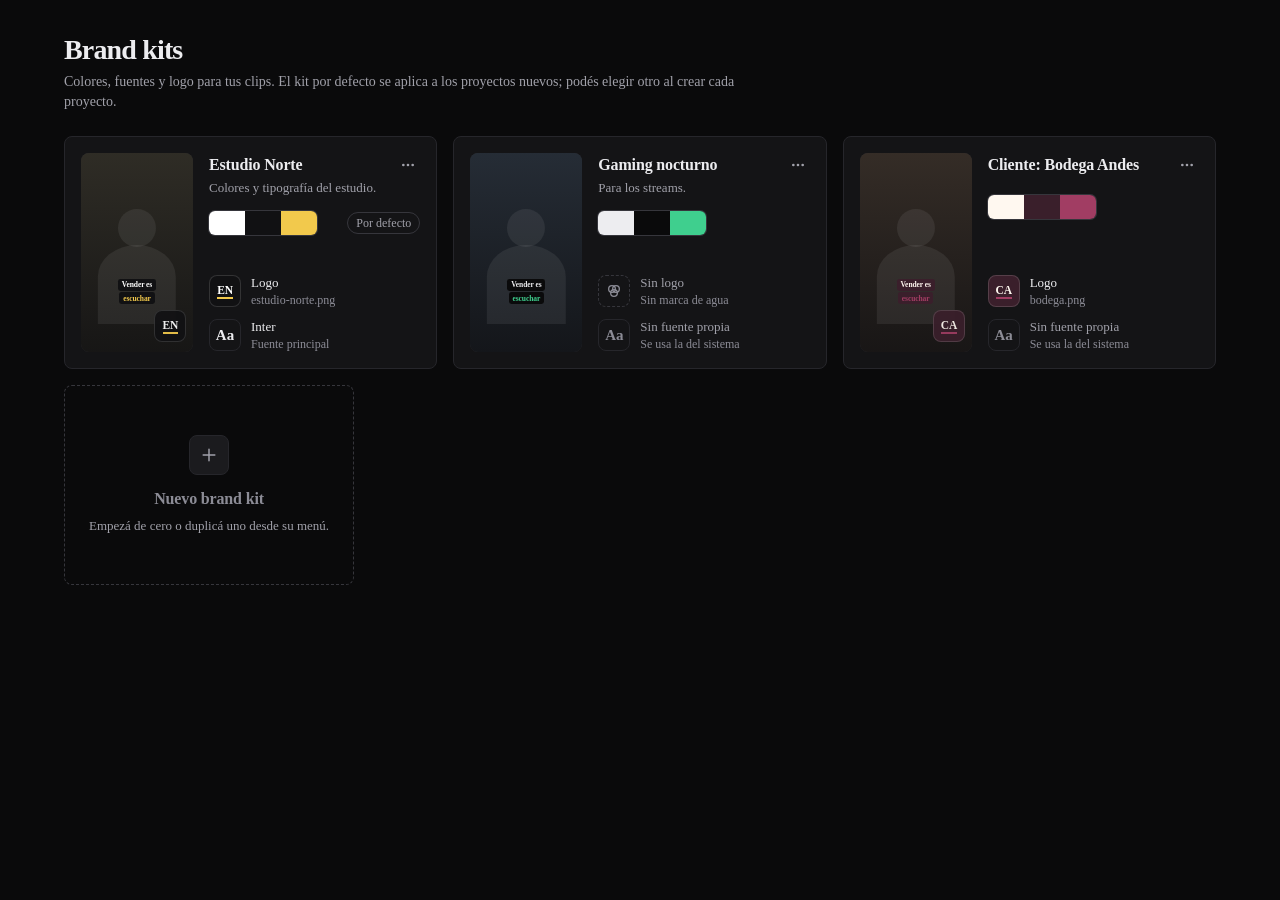
Scenario: F1 · Brand kits › backend real: si no se pudieron copiar los archivos (502), avisa y no agrega nada
Check: the heading "Brand kits" is shown, box [64,34,182,65]
Click the button named "Acciones de Gaming nocturno" at (798, 165), box [782,149,814,181]
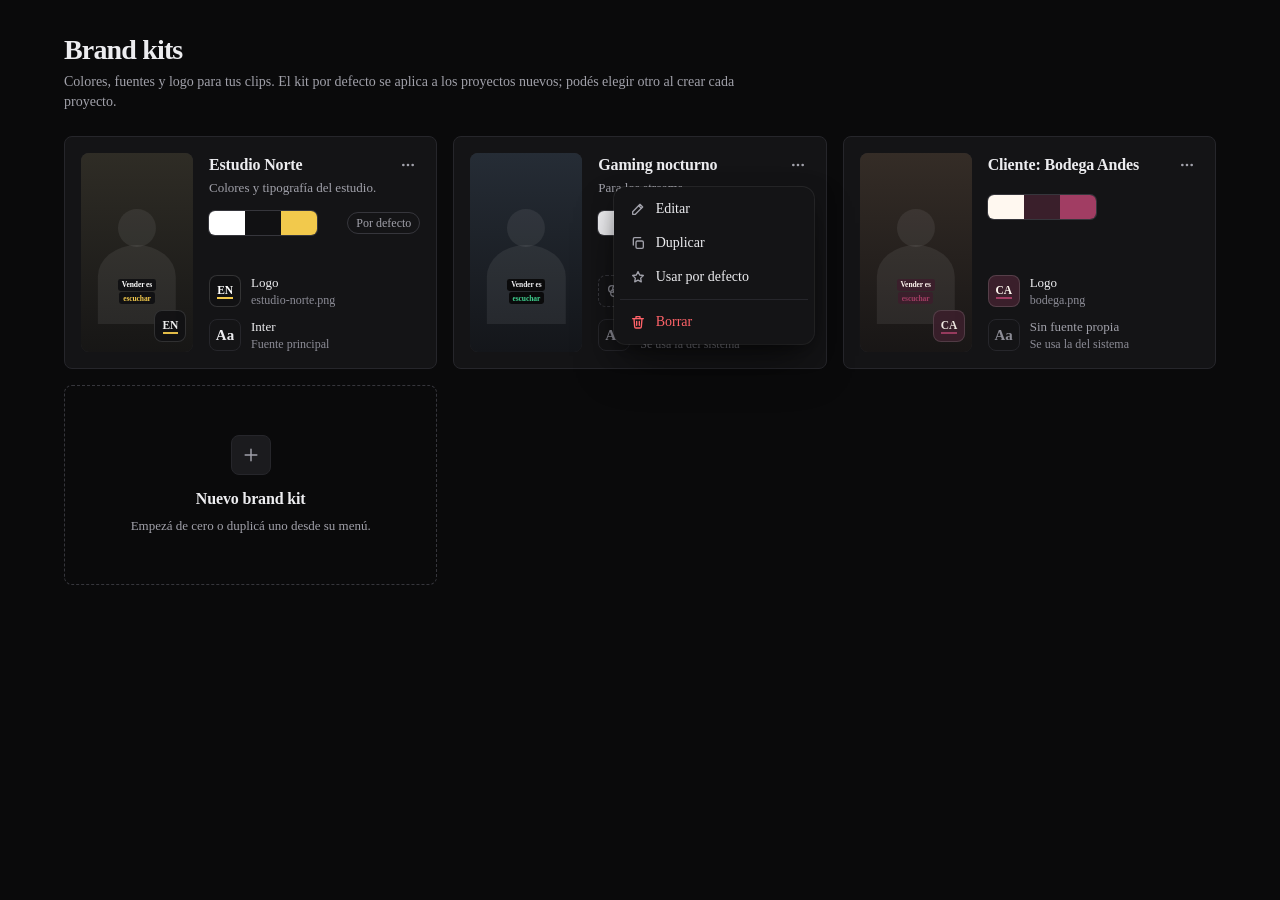
Click the menu item "Duplicar" at (714, 243), box [620,227,808,259]
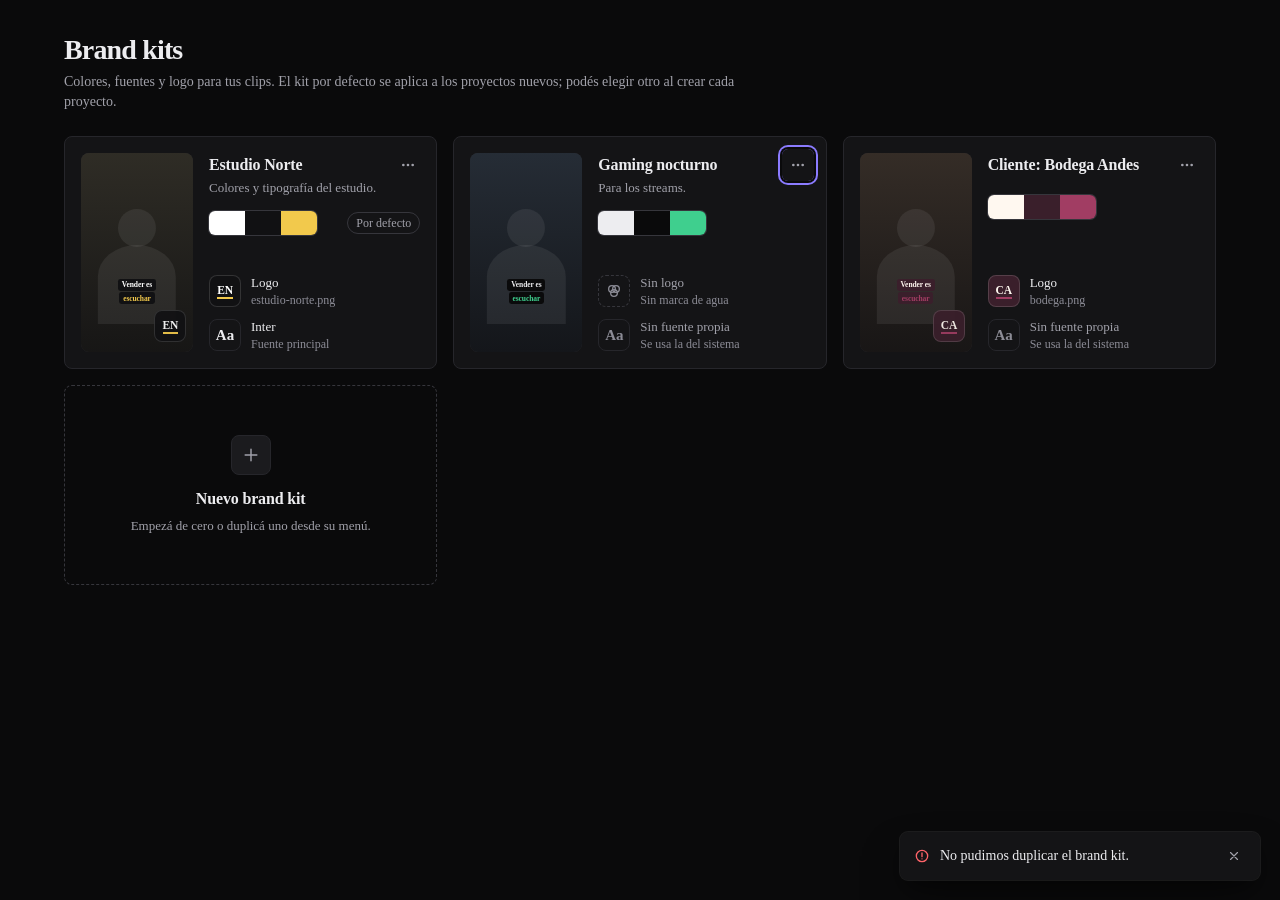
Check: the heading "Brand kits" is shown, box [64,34,182,65]
Check: the text "No pudimos duplicar el brand kit." is shown, box [940,848,1129,863]
